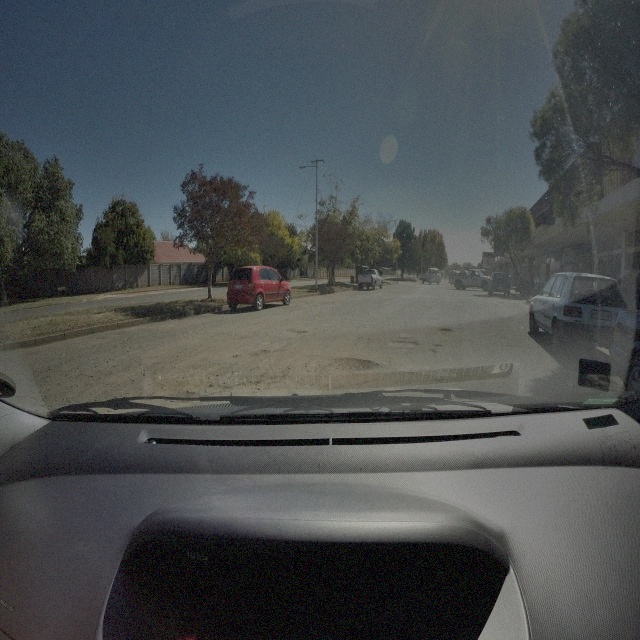pothole: (317, 355, 381, 375), (169, 389, 200, 403), (252, 348, 271, 357), (408, 340, 419, 348), (440, 326, 452, 333), (296, 329, 310, 335), (393, 339, 406, 344), (432, 342, 442, 348)
